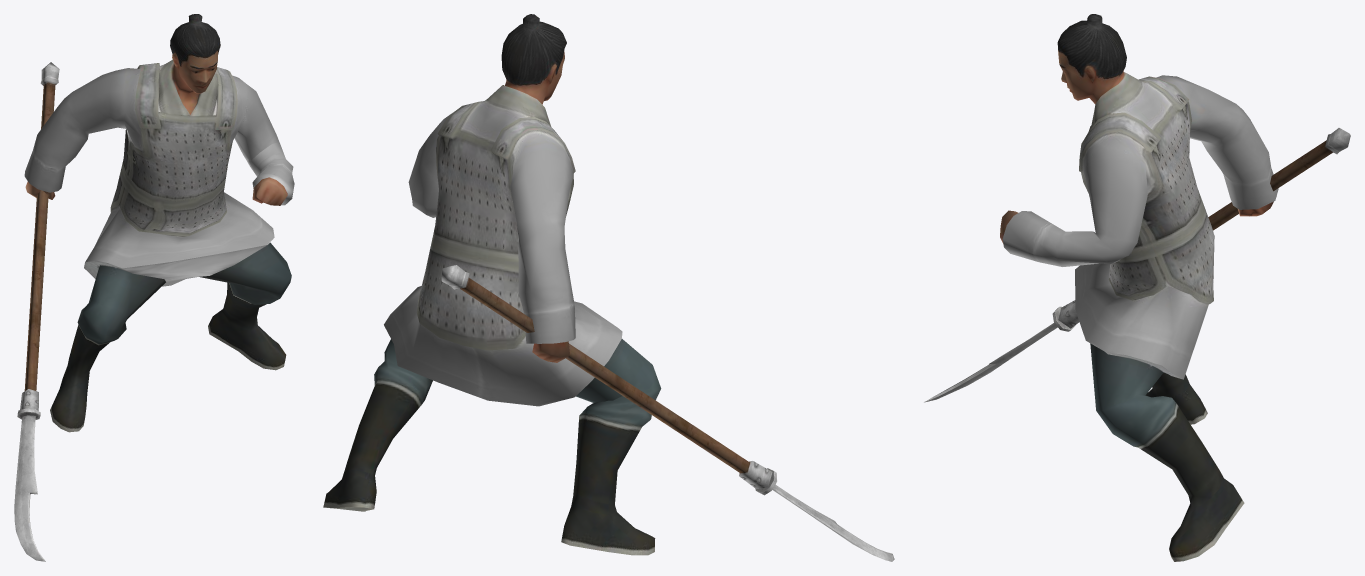
The model's file is rider-base.glb.
The picture shows the model from 3 angles, left to right: view 1: azimuth 30°, elevation 25°; view 2: azimuth 150°, elevation 25°; view 3: azimuth 270°, elevation 25°; orthographic projection. The views are drawn at different scales.
Bounding box in the file's own units: 1.73 × 2.03 × 1.53.
Materials: 2 (2 with a texture image).
